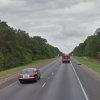Car: (16, 60, 54, 85)
